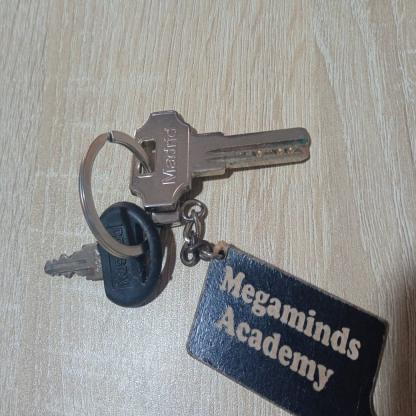key: (135, 100, 321, 230), (36, 213, 163, 301)
